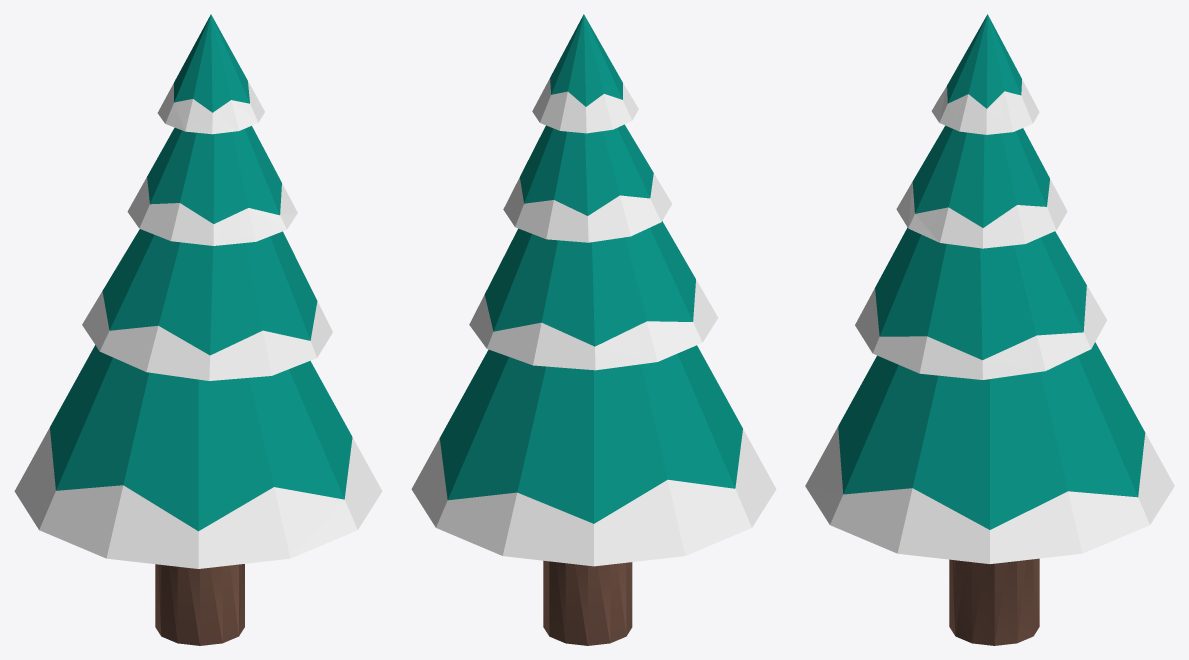
The model's file is pineTree.dae.
3 renders of one model, left to right at view 1: azimuth 30°, elevation 25°; view 2: azimuth 150°, elevation 25°; view 3: azimuth 270°, elevation 25°, orthographic.
Visible parts, largest first — view 1: pineTree; view 2: pineTree; view 3: pineTree.
Part boxes in pixels (box(x1,y1,x2,y2)): pineTree: box(14, 14, 382, 645); pineTree: box(411, 14, 776, 645); pineTree: box(805, 14, 1174, 645).
Bounding box in the file's own units: 0.41 × 0.41 × 0.7544.
